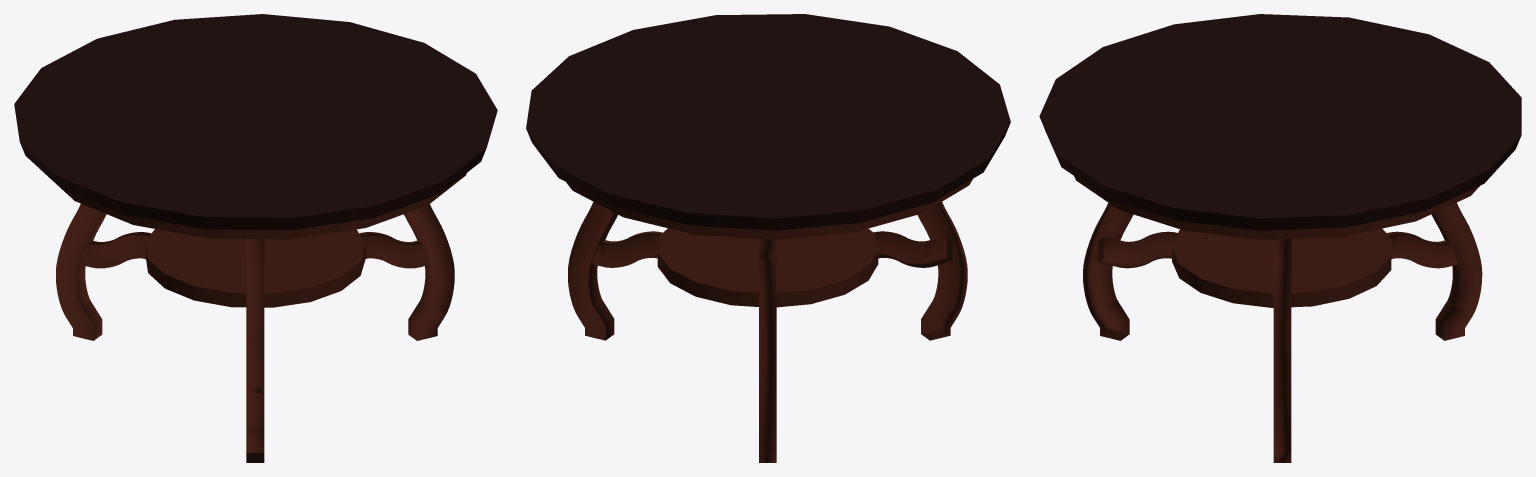
Rendered from table.fbx.
3 renders of one model, left to right at view 1: azimuth 30°, elevation 25°; view 2: azimuth 150°, elevation 25°; view 3: azimuth 270°, elevation 25°, orthographic.
Visible parts, largest first — view 1: TableTop, Stretcher (×3), Leg (×3), Aprons; view 2: TableTop, Stretcher (×3), Leg (×3), Aprons; view 3: TableTop, Stretcher (×3), Leg (×3), Aprons.
Part boxes in pixels (<box>): TableTop: <box>14,14,497,230</box>; Stretcher (×3): <box>80,229,430,307</box>; Leg (×3): <box>56,204,454,462</box>; Aprons: <box>45,173,466,239</box>; TableTop: <box>526,14,1010,230</box>; Stretcher (×3): <box>592,228,952,307</box>; Leg (×3): <box>568,201,967,462</box>; Aprons: <box>566,179,972,239</box>; TableTop: <box>1039,14,1521,230</box>; Stretcher (×3): <box>1098,228,1457,307</box>; Leg (×3): <box>1083,202,1482,462</box>; Aprons: <box>1074,176,1479,239</box>.
Size of the model in its own units: 1.53 by 0.9062 by 1.52.
